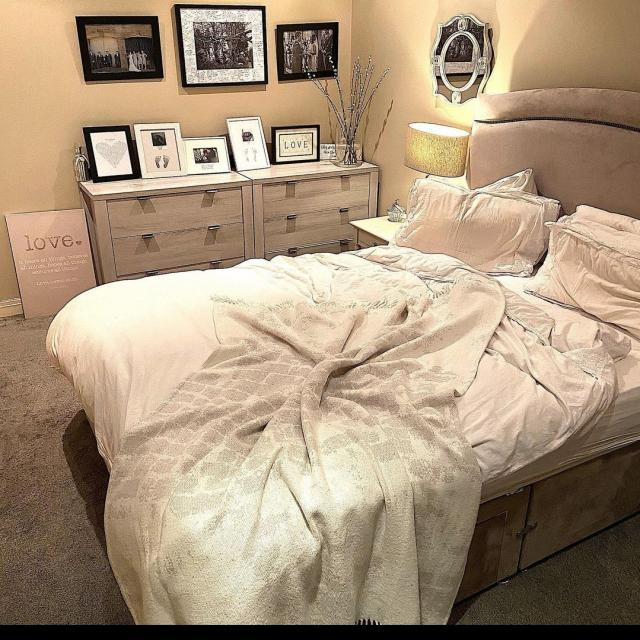bed: (43, 165, 640, 570)
